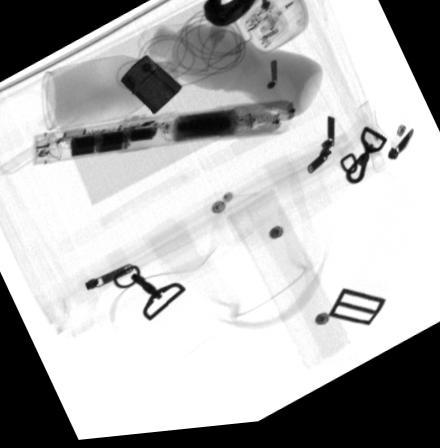Baton: (32, 106, 295, 166)
HandCuffs: (202, 0, 261, 33)
Lighter: (119, 57, 181, 116)
